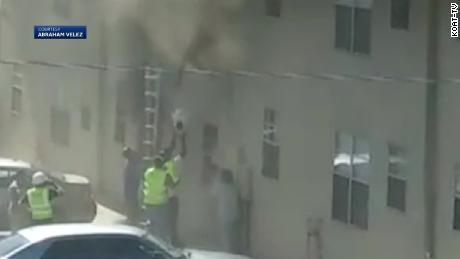helmet: (33, 172, 49, 187)
